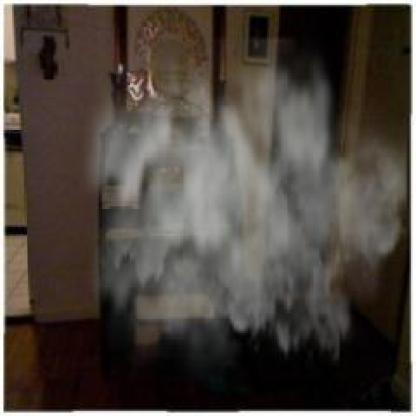Smoke: (64, 37, 406, 398)
